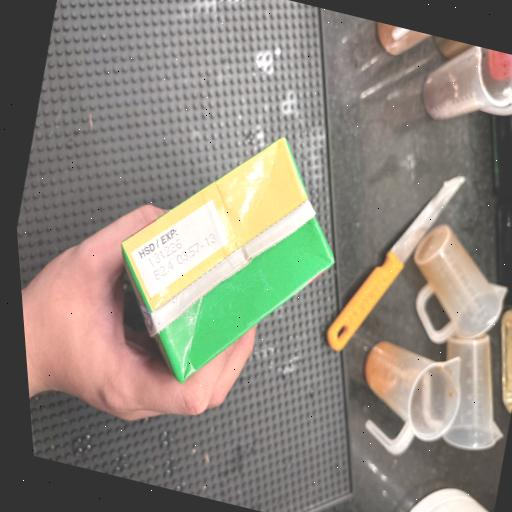sua_dac: (121, 137, 333, 383)
